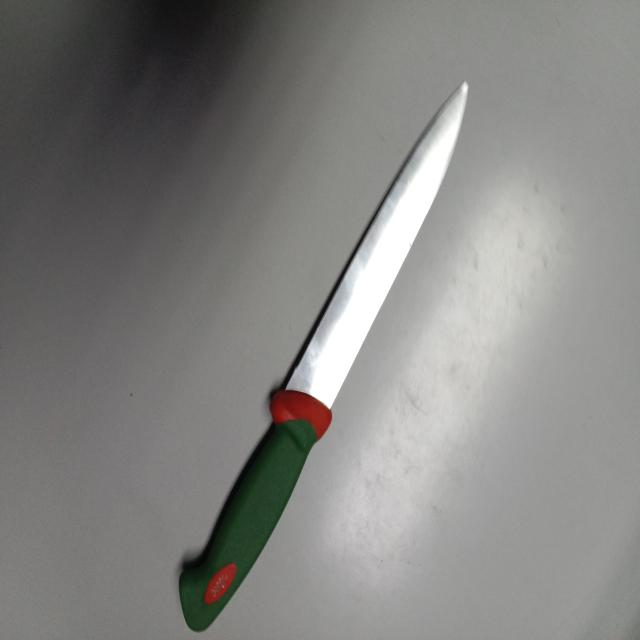Knife: (179, 83, 468, 631)
